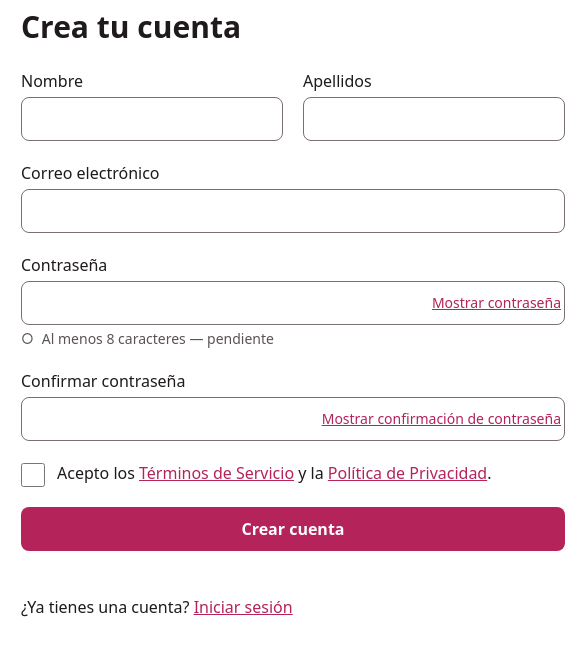
Test: RegisterPage › validation timing (Design System — Form and validation guidelines) › does not show an error while the user is still typing, only when leaving the field
In the field labelled "Correo electrónico": (293,211) [21,189,565,233], type "john@"
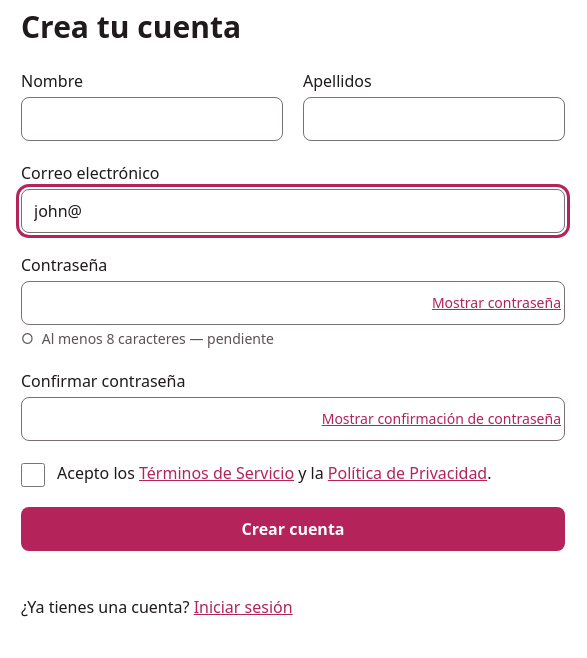
Press Tab
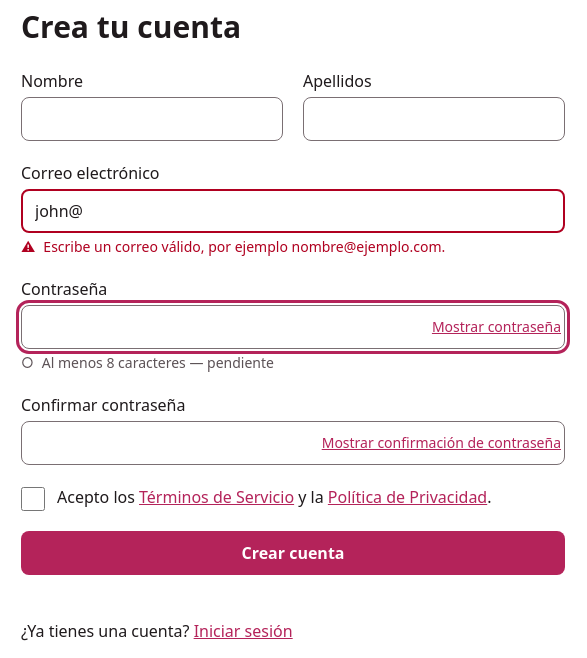
Expected: the text "Escribe un correo válido, por ejemplo nombre@ejemplo.com." is shown, [43,237,445,257]
